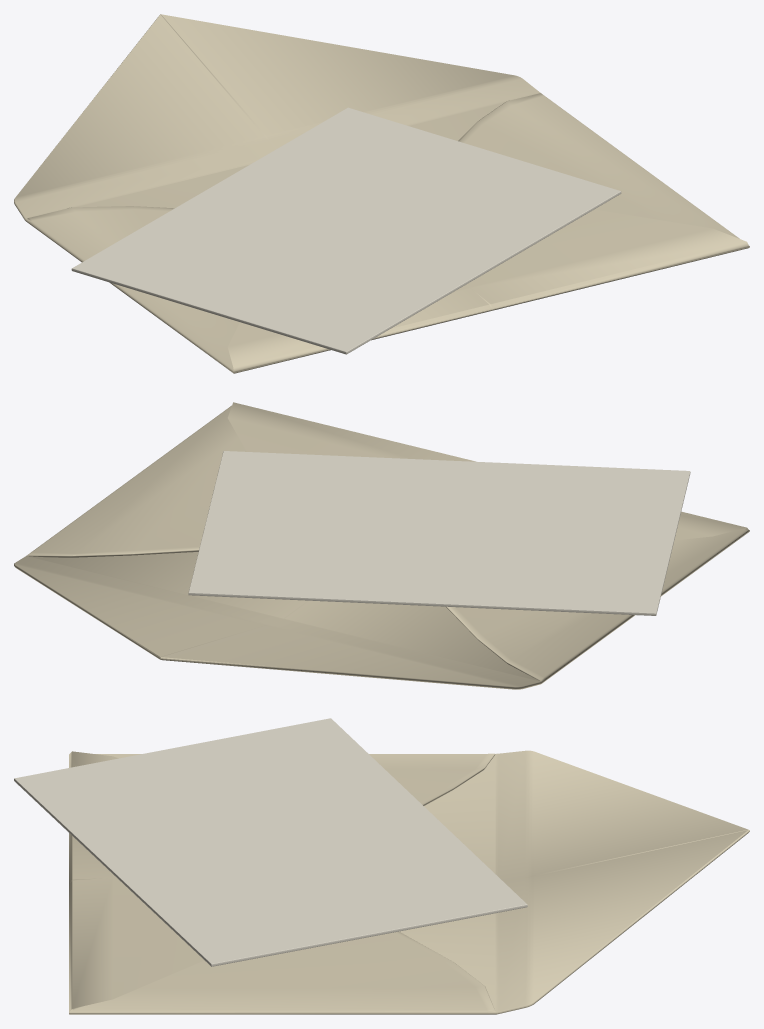
The model's file is stationary_003.obj.
3 renders of one model, top to bottom at view 1: azimuth 30°, elevation 25°; view 2: azimuth 150°, elevation 25°; view 3: azimuth 270°, elevation 25°, orthographic. The views are drawn at different scales.
Visible parts, largest first — view 1: stationary_003; view 2: stationary_003; view 3: stationary_003.
Part boxes in pixels (box(x1,y1,x2,y2)): stationary_003: box(14, 14, 749, 373); stationary_003: box(14, 402, 749, 689); stationary_003: box(14, 718, 749, 1014).
Size of the model in its own units: 17.1 by 1.62 by 19.28.
Materials: 1 (1 with a texture image).
